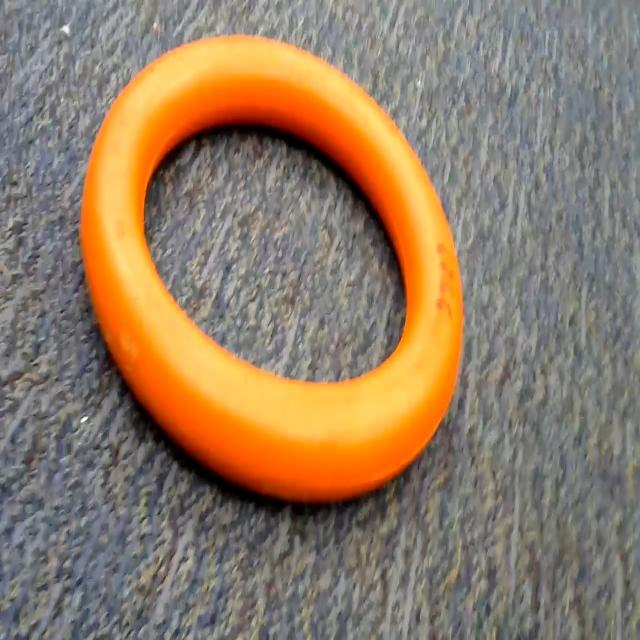note: (76, 0, 492, 514)
